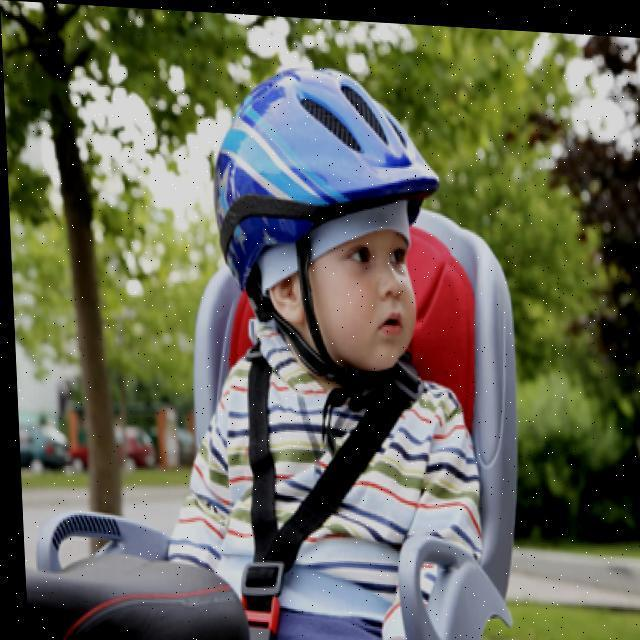Helmet: (186, 39, 444, 376)
